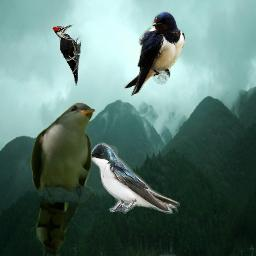Cuckoo: (30, 102, 96, 254)
Swallow: (86, 142, 180, 214), (124, 11, 185, 97)
Woodpecker: (52, 24, 81, 88)
